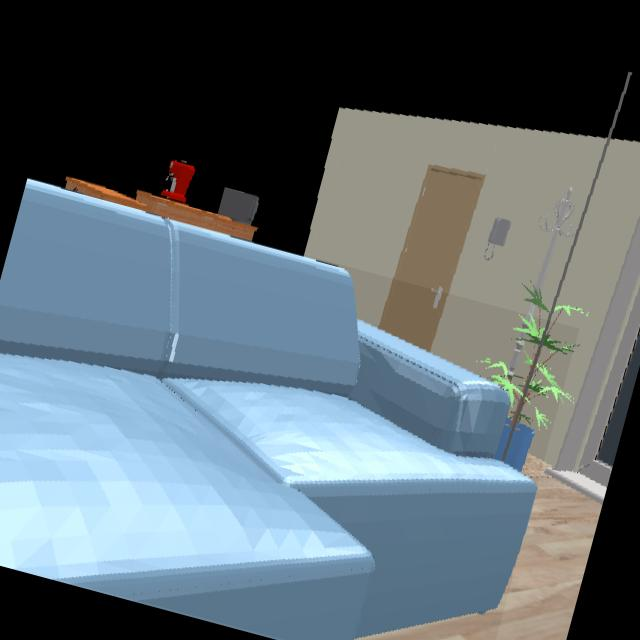microwave: (219, 188, 256, 223)
sofa: (0, 180, 535, 640)
